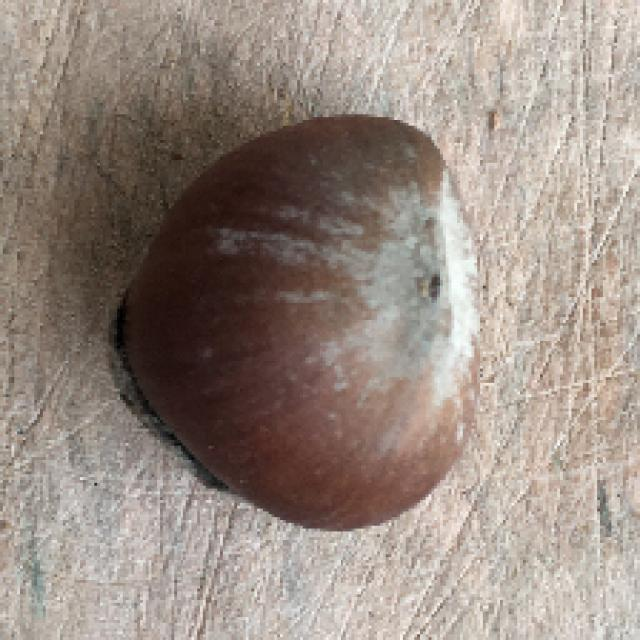damagedHazelnut: (119, 108, 494, 525)
